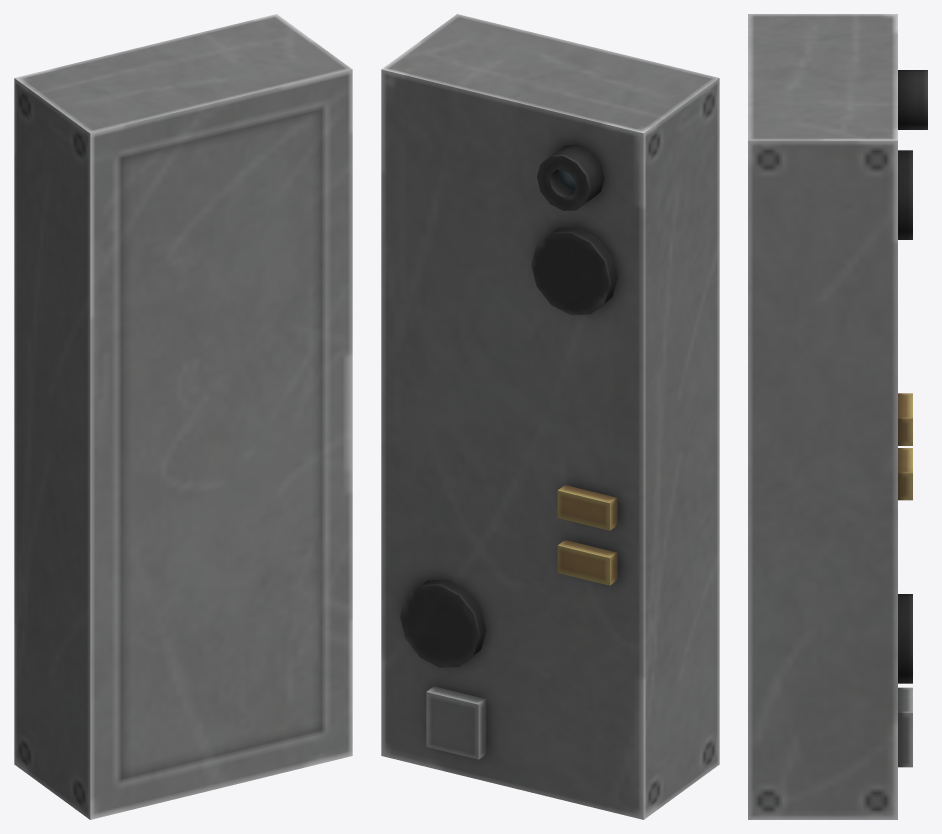
File: 1f_sensor_visible_light_camera_srf_1.obj
The picture shows the model from 3 angles, left to right: view 1: azimuth 30°, elevation 25°; view 2: azimuth 150°, elevation 25°; view 3: azimuth 270°, elevation 25°; orthographic projection.
Visible parts, largest first — view 1: mesh1; view 2: mesh1; view 3: mesh1.
Boxes of the visible parts, box(x1,y1,x2,y2) form: mesh1: box(14, 14, 352, 819); mesh1: box(381, 14, 719, 819); mesh1: box(748, 14, 927, 819).
Bounding box in the file's own units: 0.25 × 0.625 × 0.15.
Materials: 2 (2 with a texture image).
